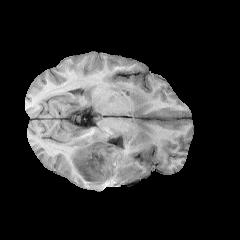glioma: (70, 141, 131, 186)
